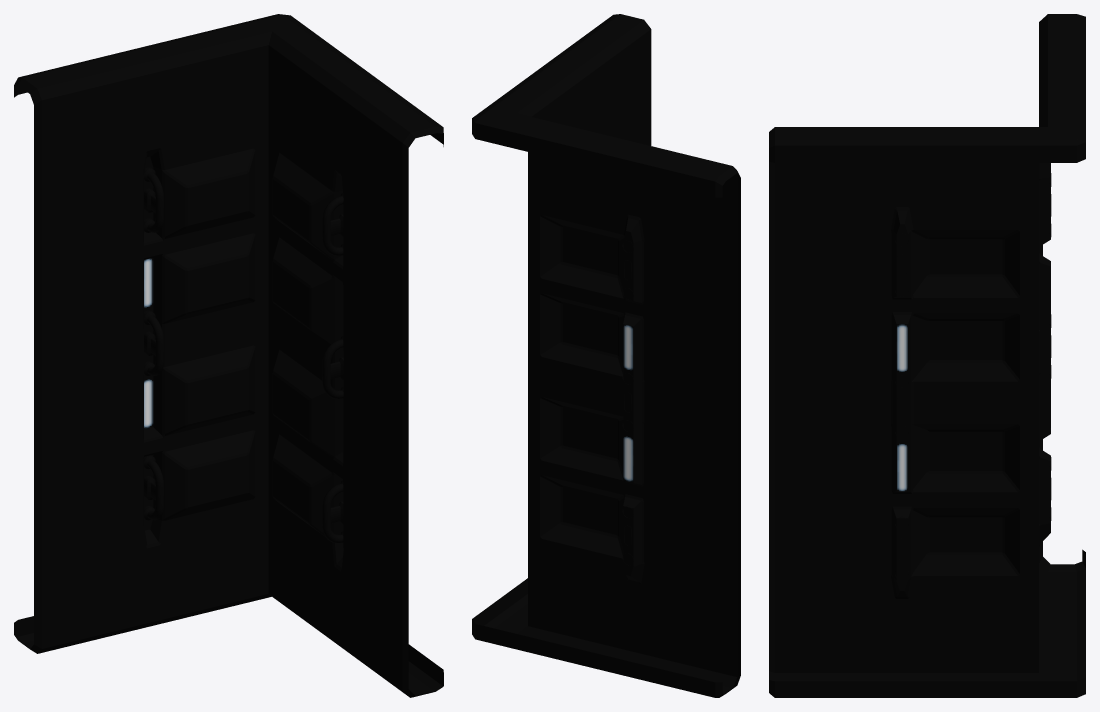
The model's file is GW2_Wall.fbx.
3 views of the same model, side by side, from view 1: azimuth 30°, elevation 25°; view 2: azimuth 150°, elevation 25°; view 3: azimuth 270°, elevation 25° (orthographic). The views are drawn at different scales.
Visible parts, largest first — view 1: GW2_Wall; view 2: GW2_Wall; view 3: GW2_Wall.
Boxes of the visible parts, x1,y1,x2,y2 form: GW2_Wall: (14, 14, 443, 697); GW2_Wall: (472, 14, 740, 697); GW2_Wall: (769, 14, 1085, 697).
Size of the model in its own units: 532 by 1049 by 540.
